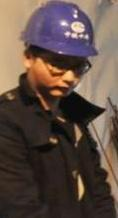hard-hat: (19, 0, 98, 57)
ppe-suit: (0, 74, 118, 218)
